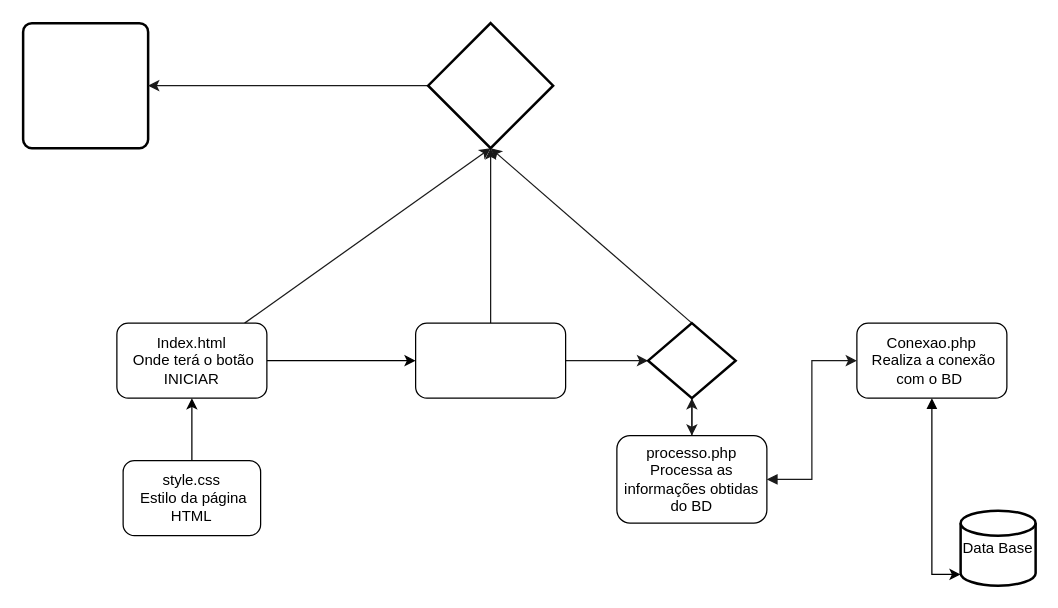
Image size: 1058x608. Some labels were removed from this diagram. The shapes that lost their labels are listed below. From the top down, each one's centre as x and y in pixels, then its label:
At (85,85): "Tela do usuário".
At (490,360): "formulario.php Cria um formulário em HTML através do PHP".
